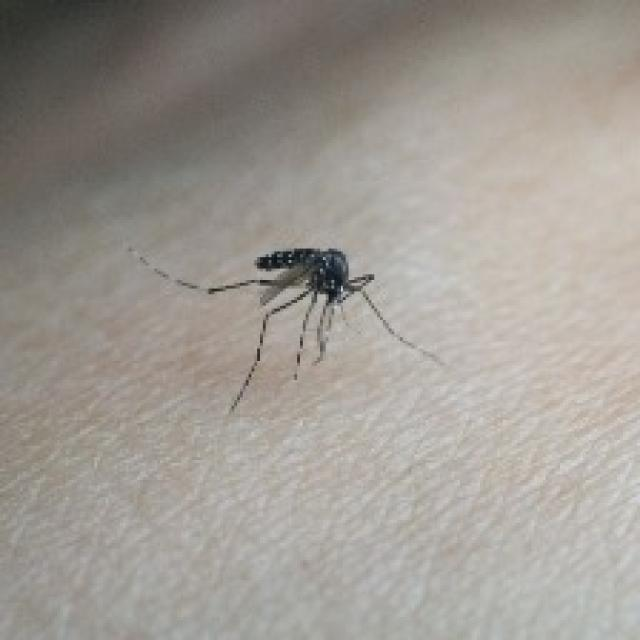aedes: (123, 237, 443, 414)
